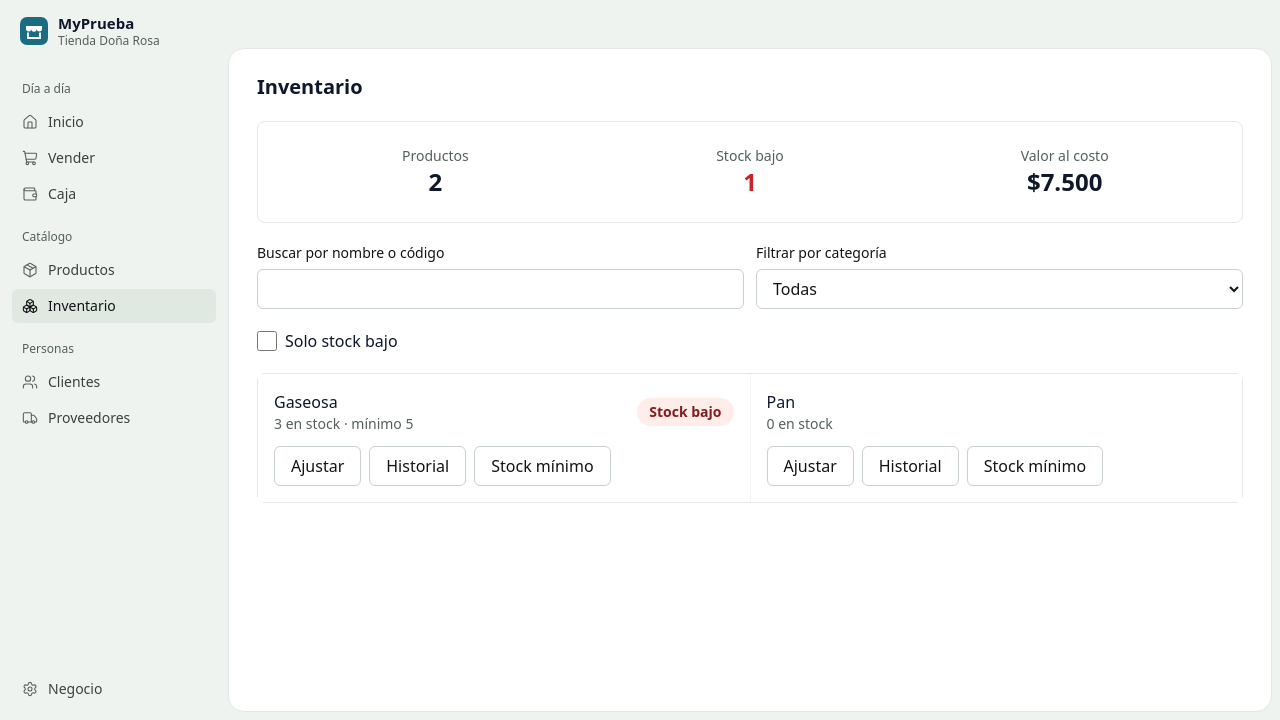
Test: inventory page › shows the stock history of a product
Click the button with aria-label "Historial de Gaseosa": (418, 466) [369, 446, 466, 486]
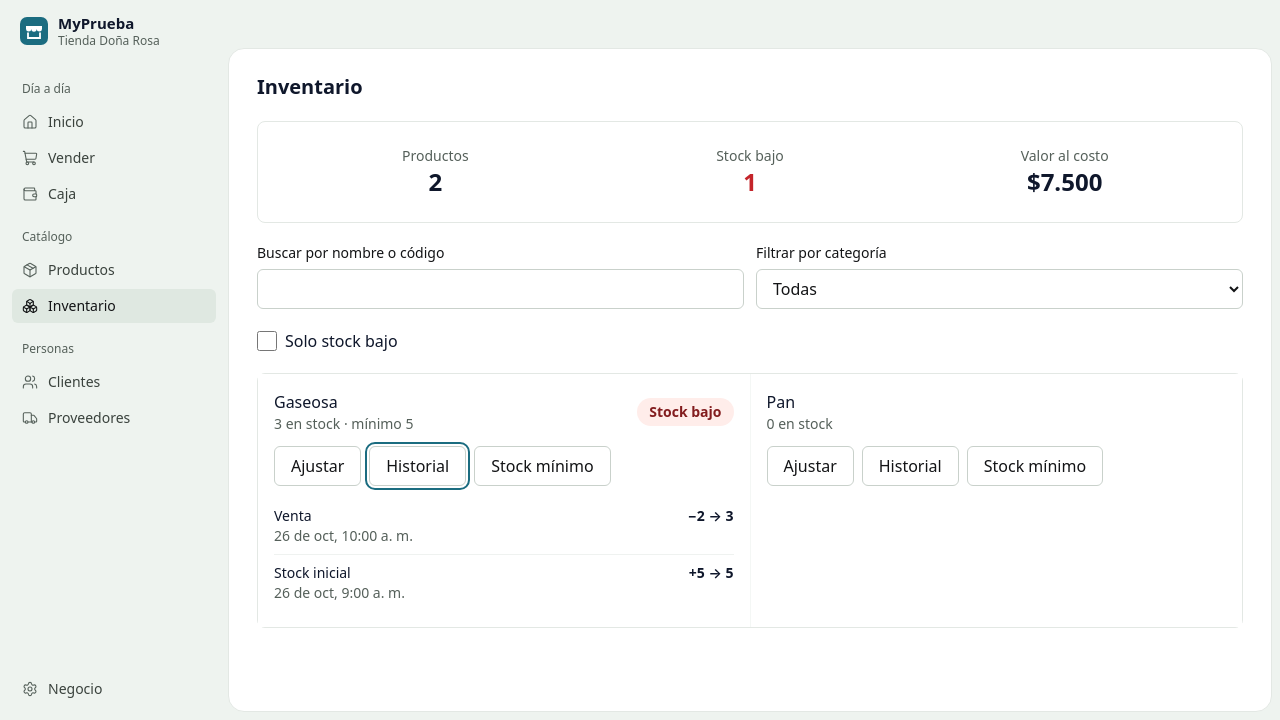
expect the text "Venta" is shown: met, box [274, 506, 312, 525]
expect the text "−2 → 3" is shown: met, box [688, 506, 734, 525]
expect the text "Stock inicial" is shown: met, box [274, 563, 351, 582]
